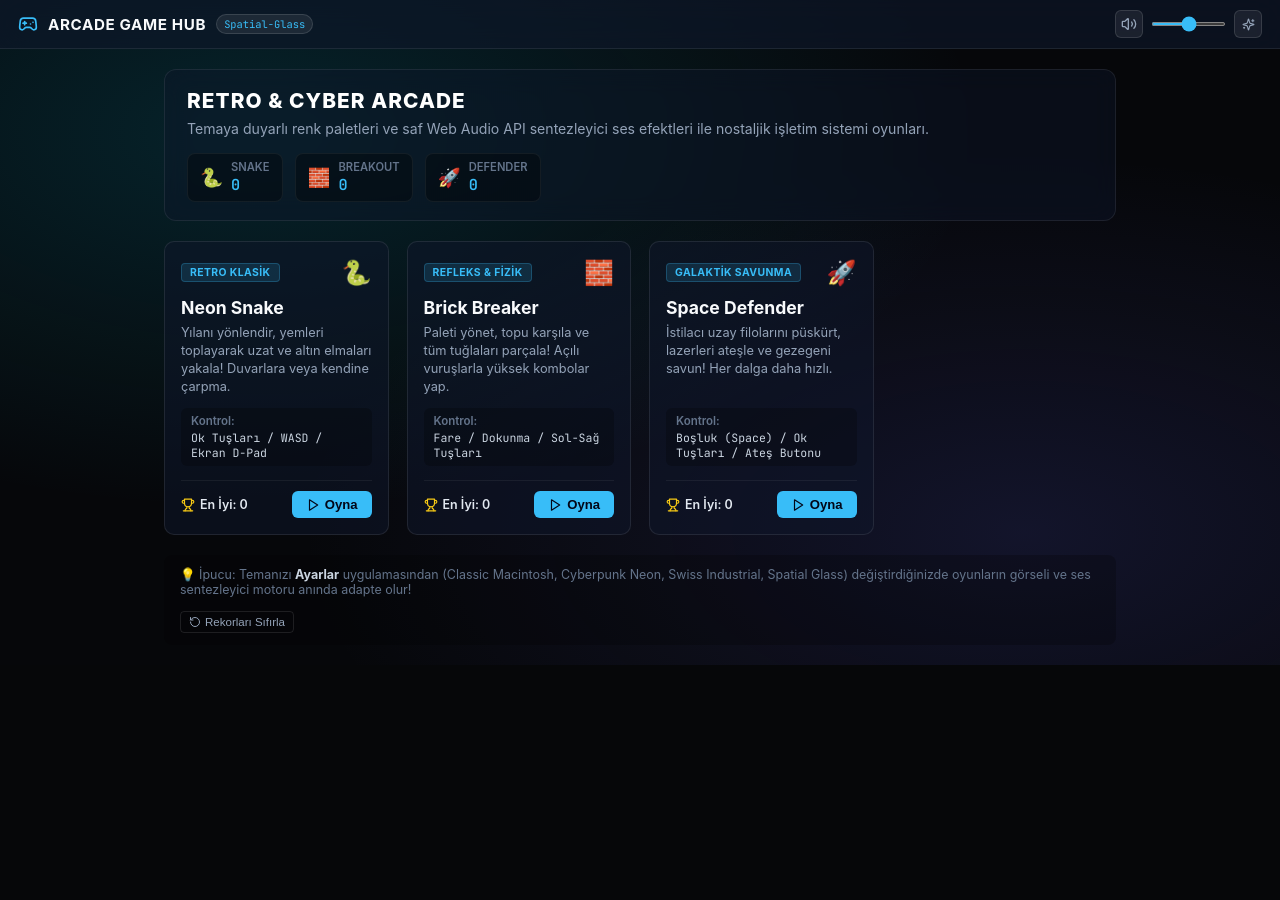
Test: GameHubApp › can launch Space Defender game and return back to lobby
Click the button with test id "play-btn-space-defender".
click(817, 504)  # box top-left (777, 491), bottom-right (856, 518)
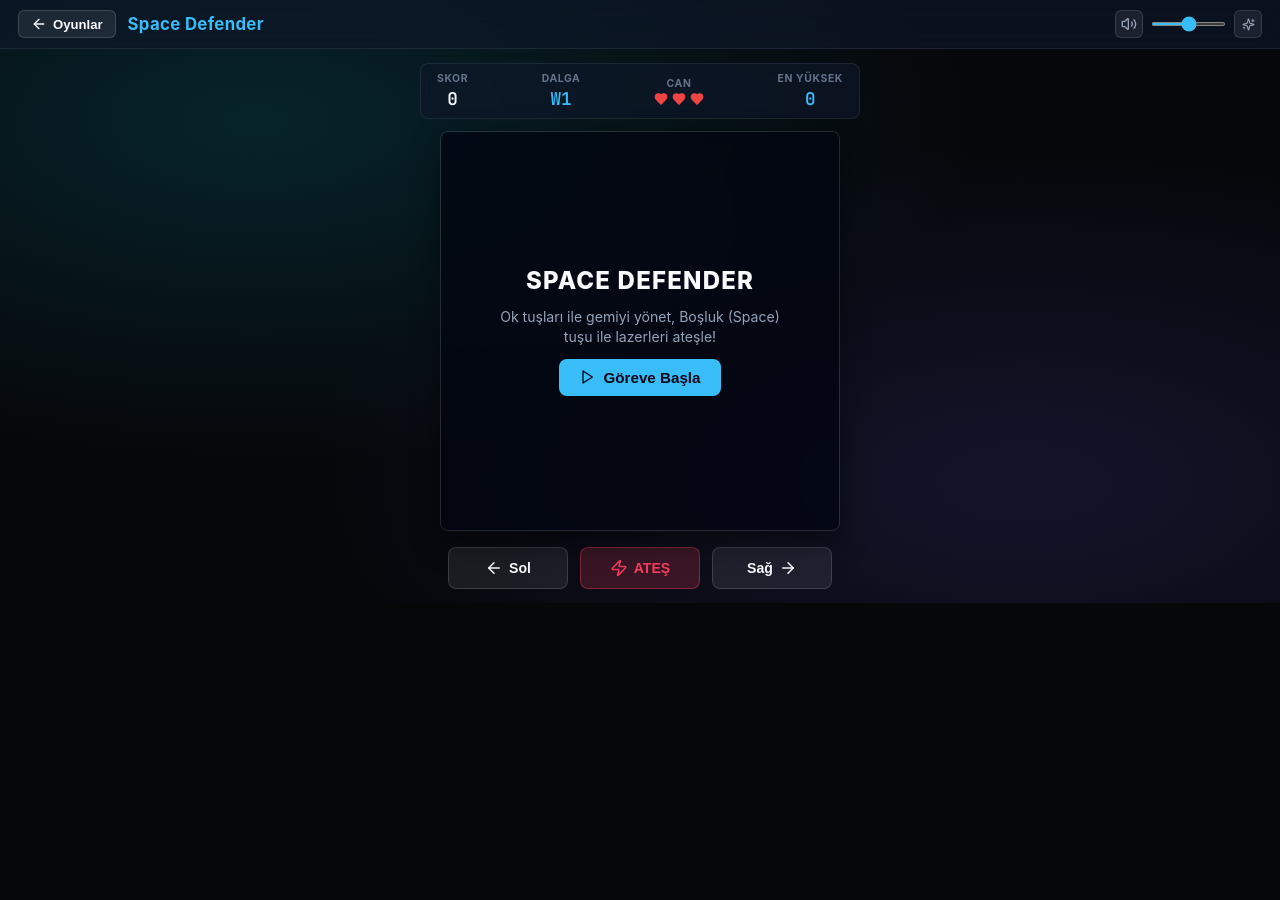
Now the element with test id "space-defender-game-view" is shown, box top-left (420, 63), bottom-right (860, 589)
Click the button with test id "hub-back-to-lobby-btn".
click(67, 24)  # box top-left (18, 10), bottom-right (116, 38)
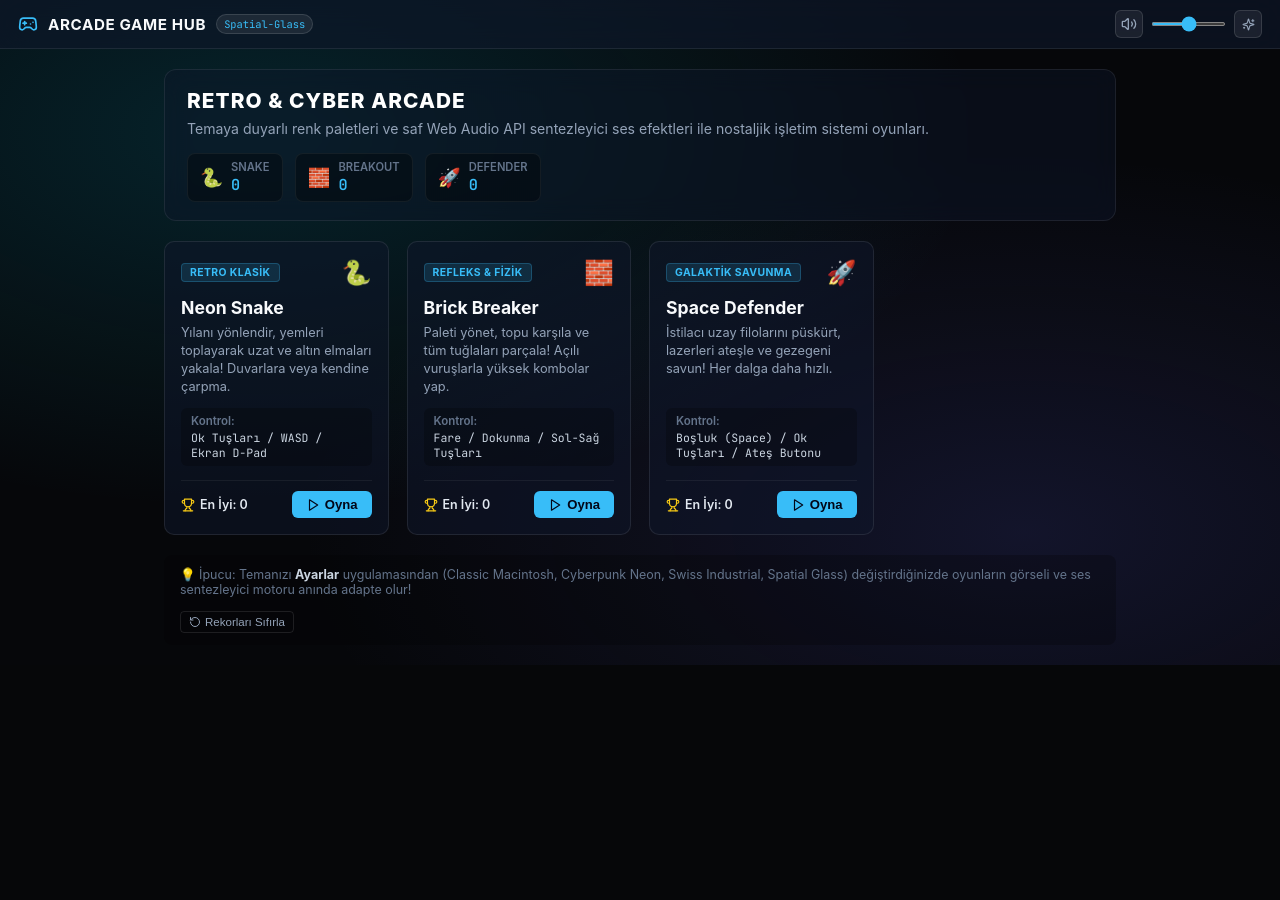
Now the element with test id "game-lobby" is shown, box top-left (140, 49), bottom-right (1140, 665)
